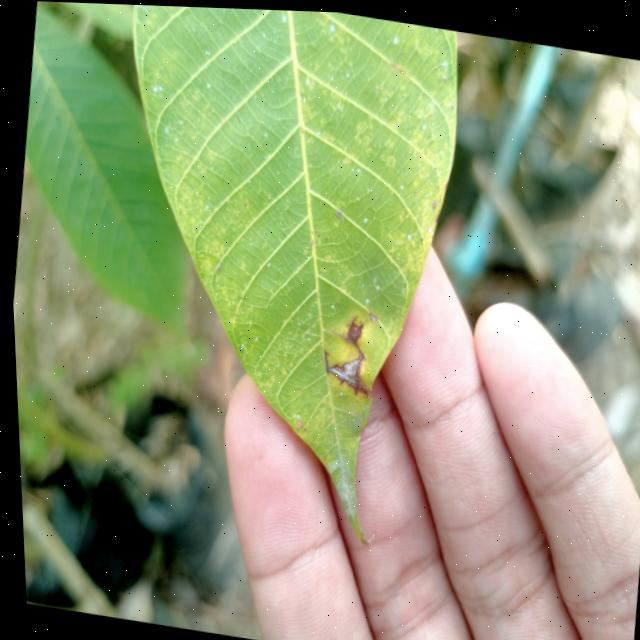Corynespora: (313, 306, 376, 395)
